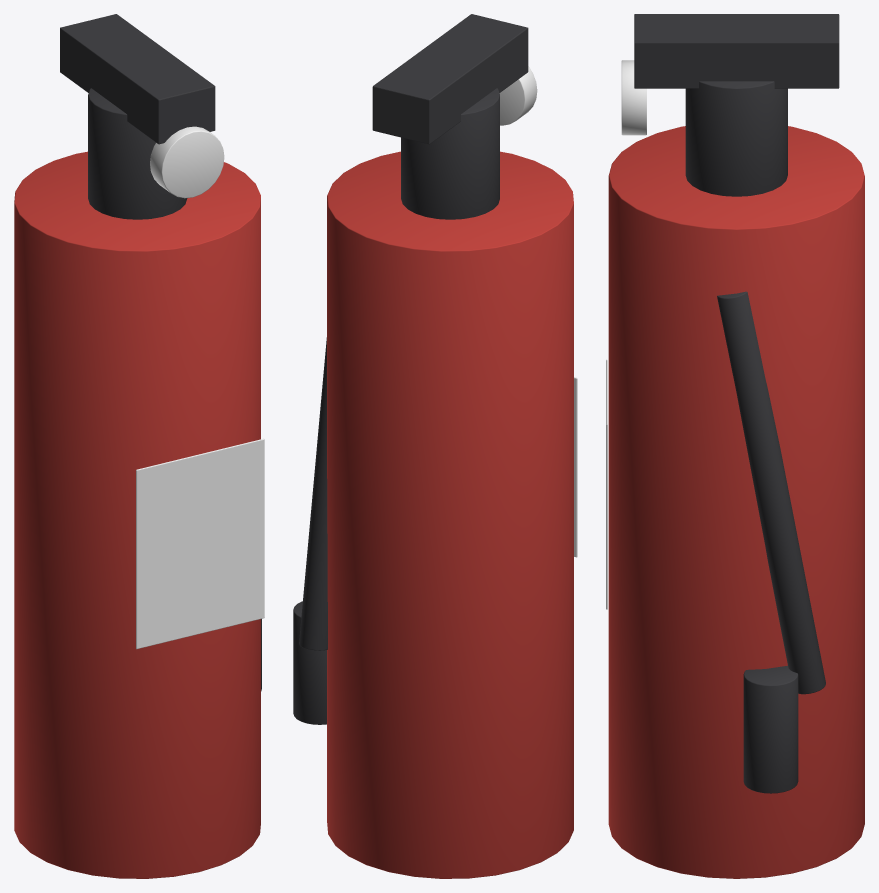
File: fireExtinguisher.glb
3 renders of one model, left to right at view 1: azimuth 30°, elevation 25°; view 2: azimuth 150°, elevation 25°; view 3: azimuth 270°, elevation 25°, orthographic. The views are drawn at different scales.
Visible parts, largest first — view 1: FireExtinguisher; view 2: FireExtinguisher; view 3: FireExtinguisher.
Part boxes in pixels (x1,y1,x2,y2): FireExtinguisher: [14, 14, 264, 878]; FireExtinguisher: [293, 14, 577, 878]; FireExtinguisher: [606, 14, 864, 878].
Bounding box in the file's own units: 0.171 × 0.515 × 0.1515.
